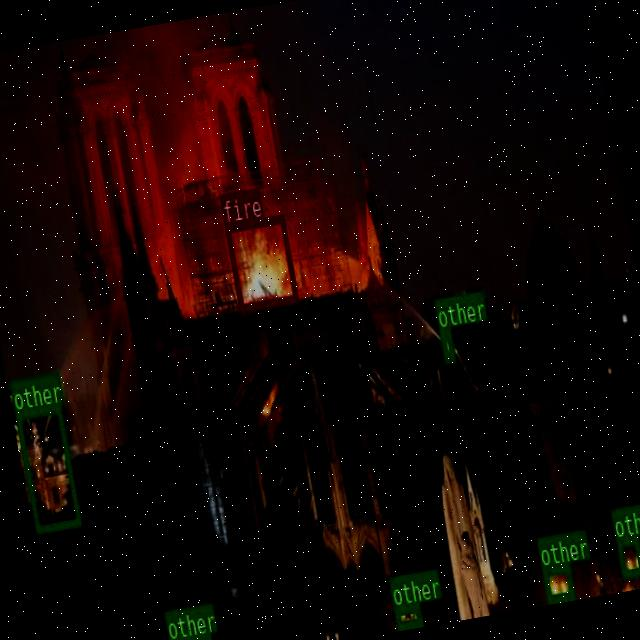fire: (223, 212, 298, 312)
